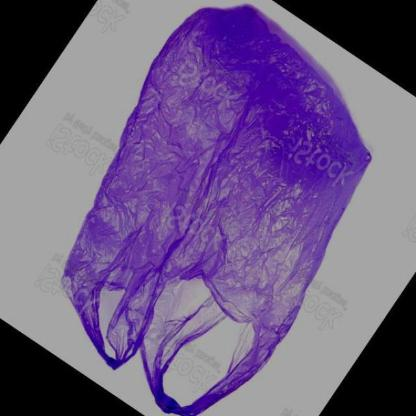Plastic Bag: (59, 4, 373, 412)
